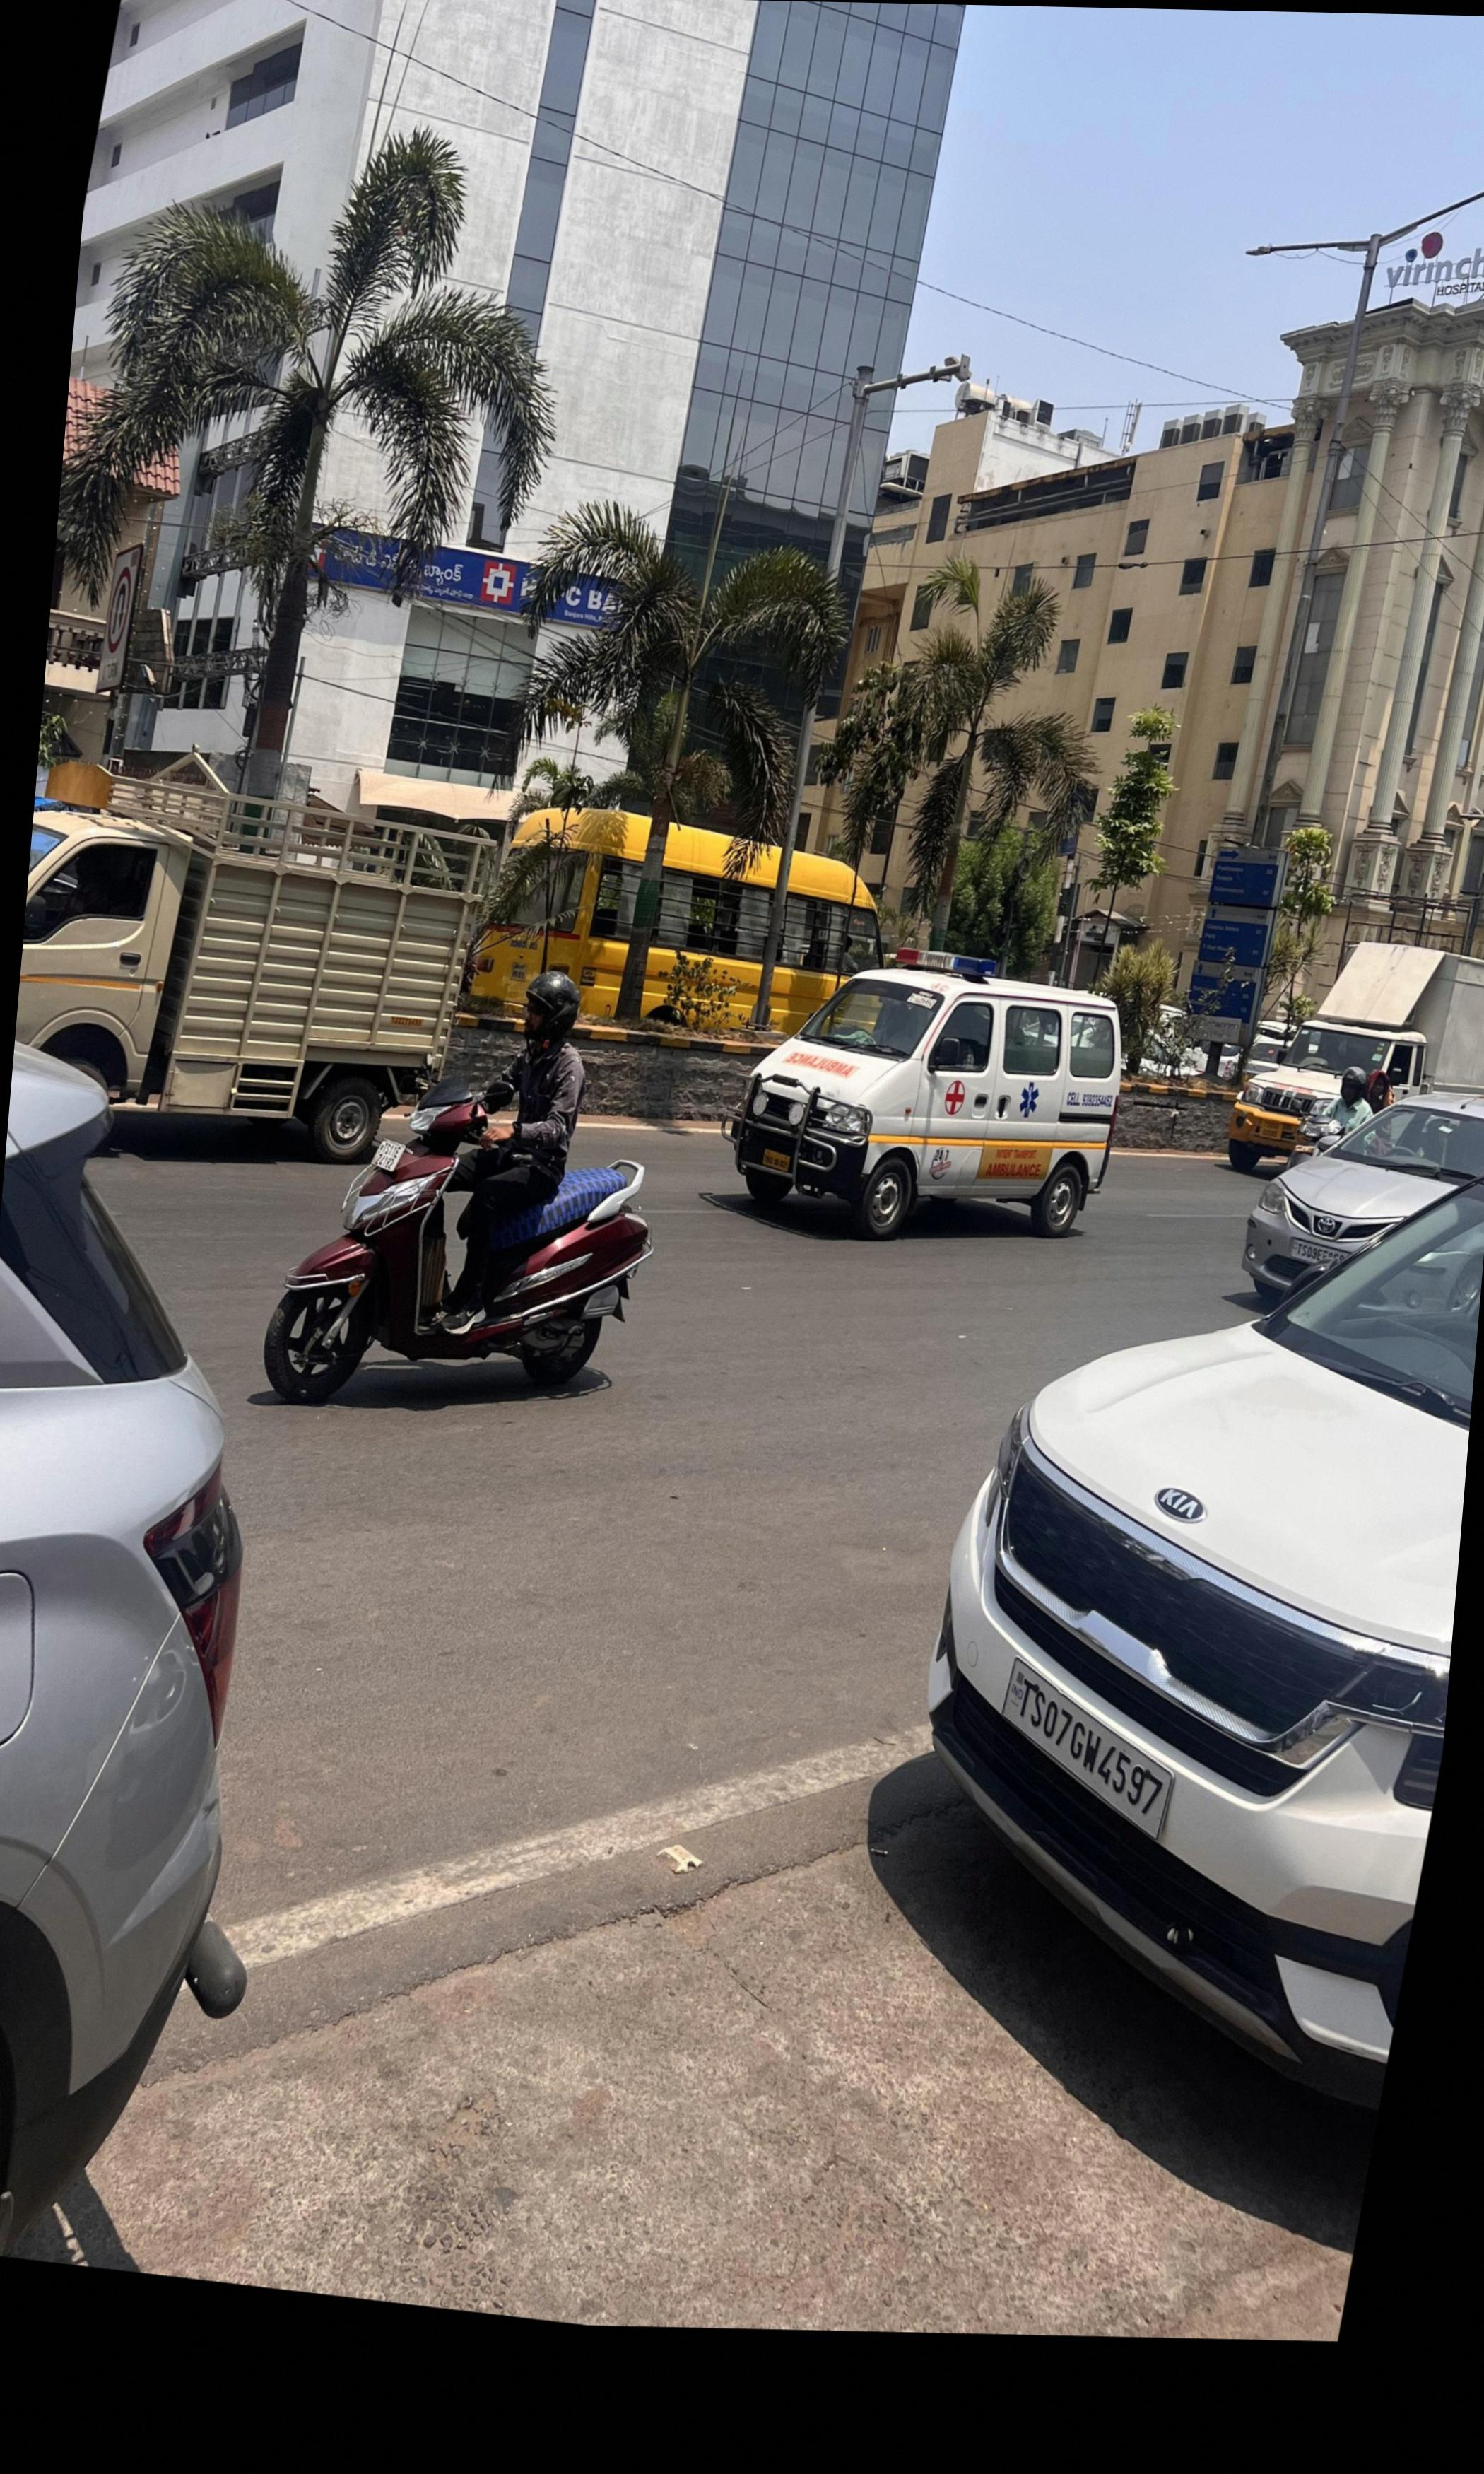ambulance: (730, 944, 1124, 1235)
